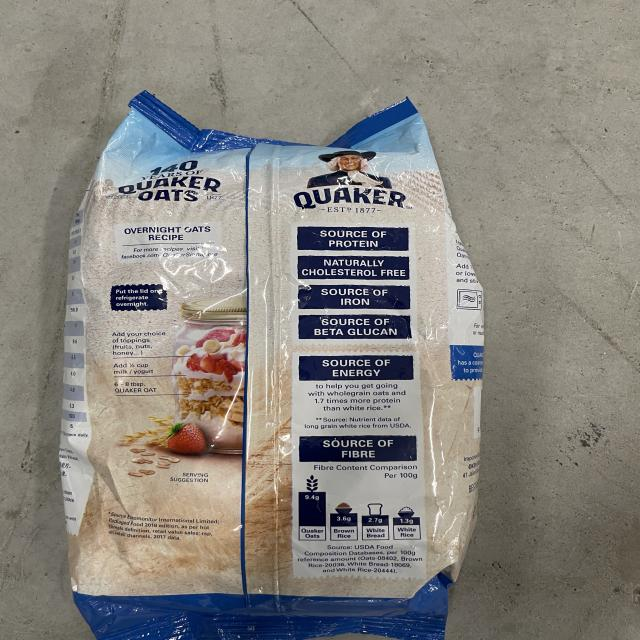object_name: (87, 135, 438, 616)
